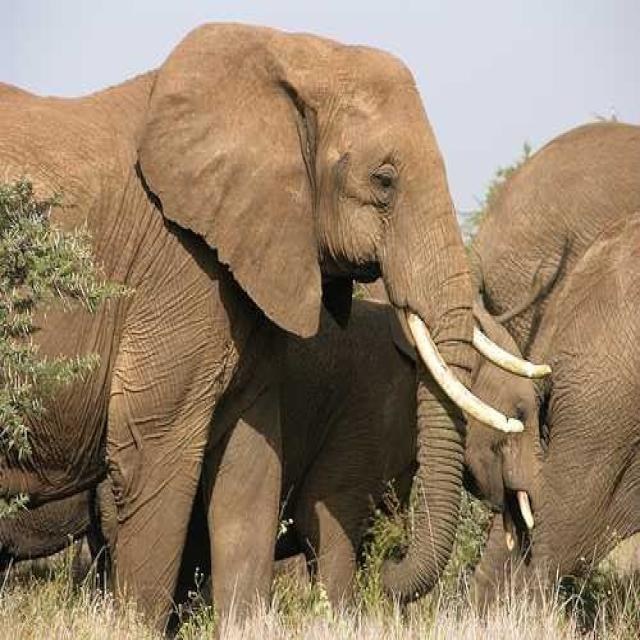Elephant: (0, 18, 550, 638)
